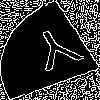Y: (24, 25, 91, 81)
